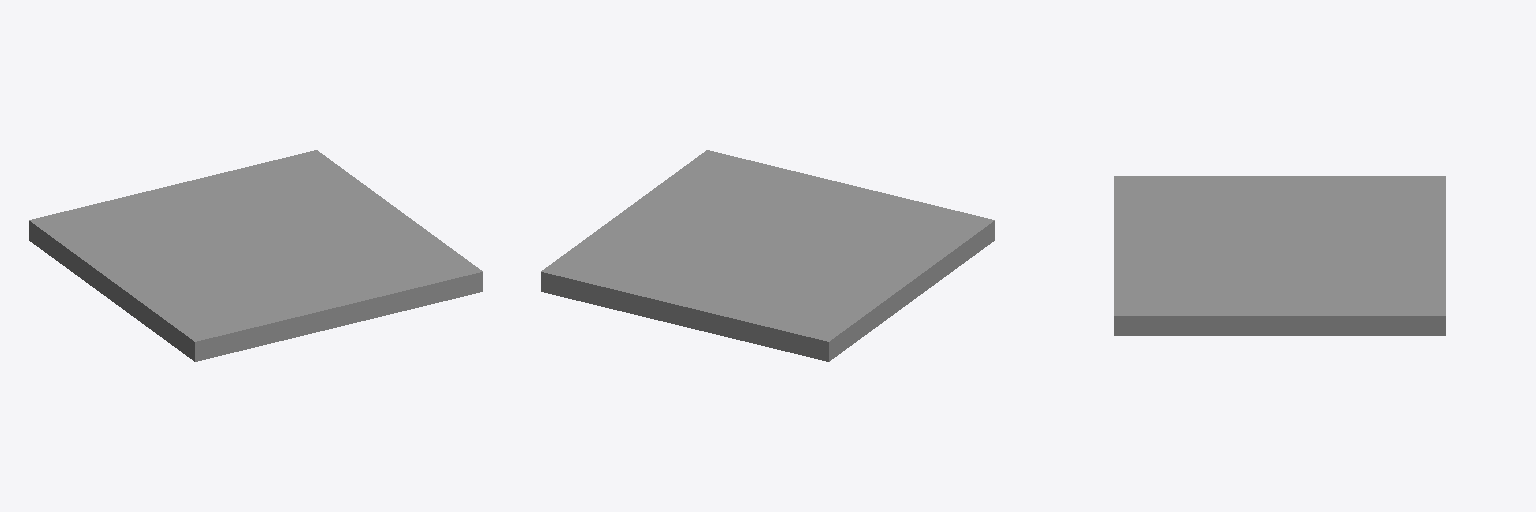
File: worktop.obj
The picture shows the model from 3 angles: view 1: azimuth 30°, elevation 25°; view 2: azimuth 150°, elevation 25°; view 3: azimuth 270°, elevation 25°; orthographic projection.
Visible parts, largest first — view 1: Cube.001_Cube.000, Cube_Cube.001; view 2: Cube.001_Cube.000, Cube_Cube.001; view 3: Cube.001_Cube.000, Cube_Cube.001.
Boxes of the visible parts, box(x1,y1,x2,y2) form: Cube.001_Cube.000: box(29, 150, 482, 346); Cube_Cube.001: box(29, 226, 482, 361); Cube.001_Cube.000: box(541, 150, 994, 346); Cube_Cube.001: box(541, 226, 994, 361); Cube.001_Cube.000: box(1114, 176, 1445, 320); Cube_Cube.001: box(1114, 321, 1445, 335).
Size of the model in its own units: 120 by 8 by 120.